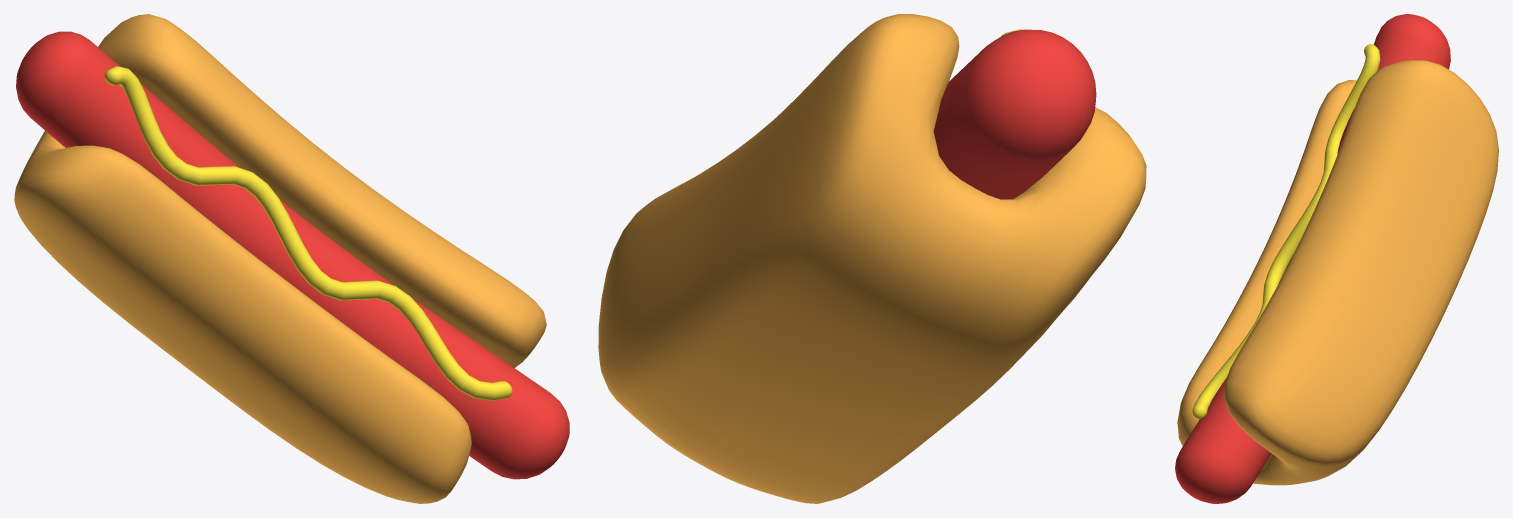
File: hot_dog.glb
The picture shows the model from 3 angles, left to right: view 1: azimuth 30°, elevation 25°; view 2: azimuth 150°, elevation 25°; view 3: azimuth 270°, elevation 25°; orthographic projection. The views are drawn at different scales.
Visible parts, largest first — view 1: Cube.353; view 2: Cube.353; view 3: Cube.353.
Part boxes in pixels (box(x1,y1,x2,y2)): Cube.353: box(14, 14, 569, 503); Cube.353: box(598, 14, 1146, 503); Cube.353: box(1175, 14, 1498, 503).
Size of the model in its own units: 2.01 by 1.97 by 1.56.
Materials: 1 (1 with a texture image).
